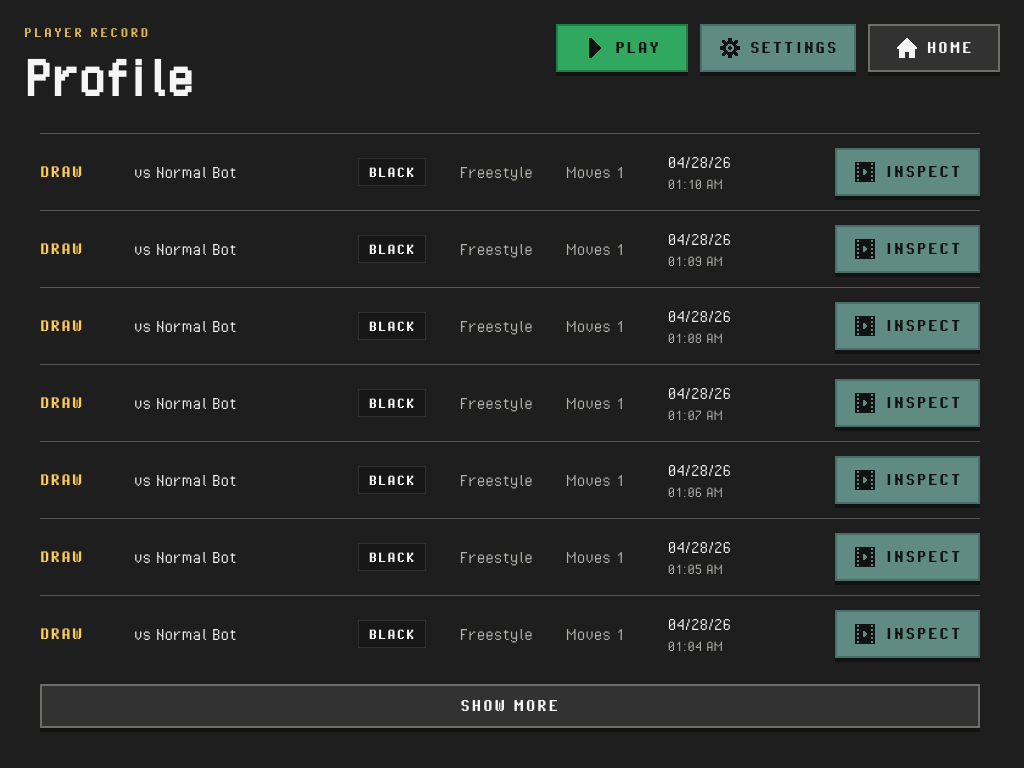
Test: ProfileRoute cloud state › reveals replay history in batches
(page scrolled)
Step 1. Click the button "Show more" → click(510, 706), box [40,684,980,728]
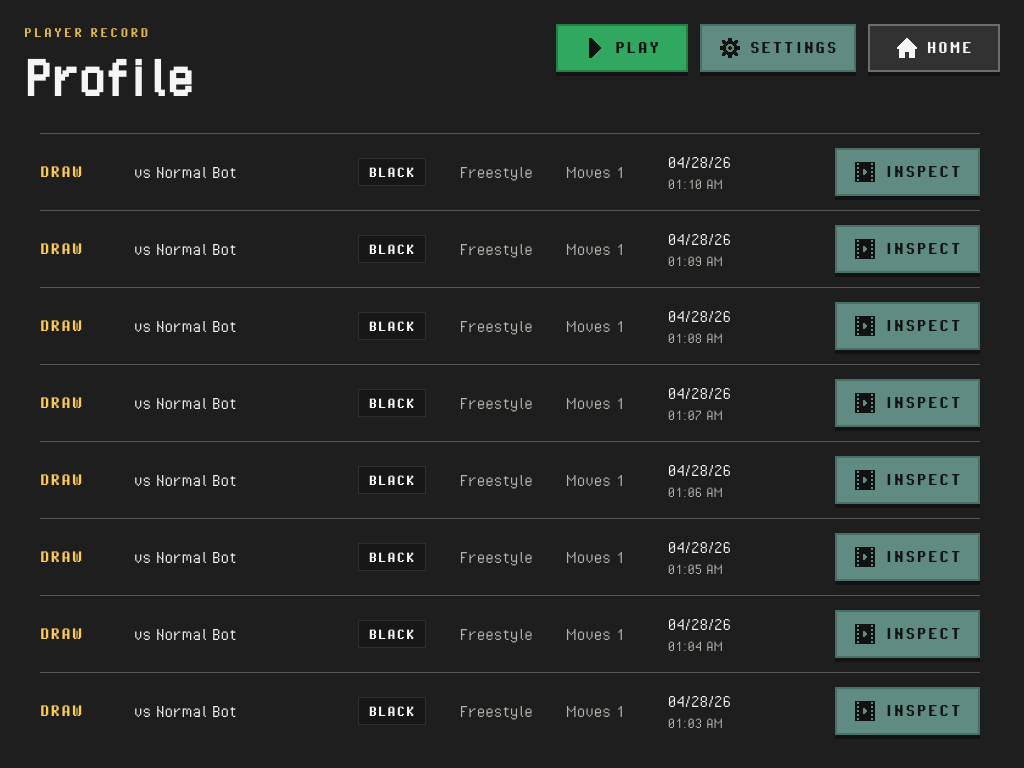
Check: the button "Show more" is gone
